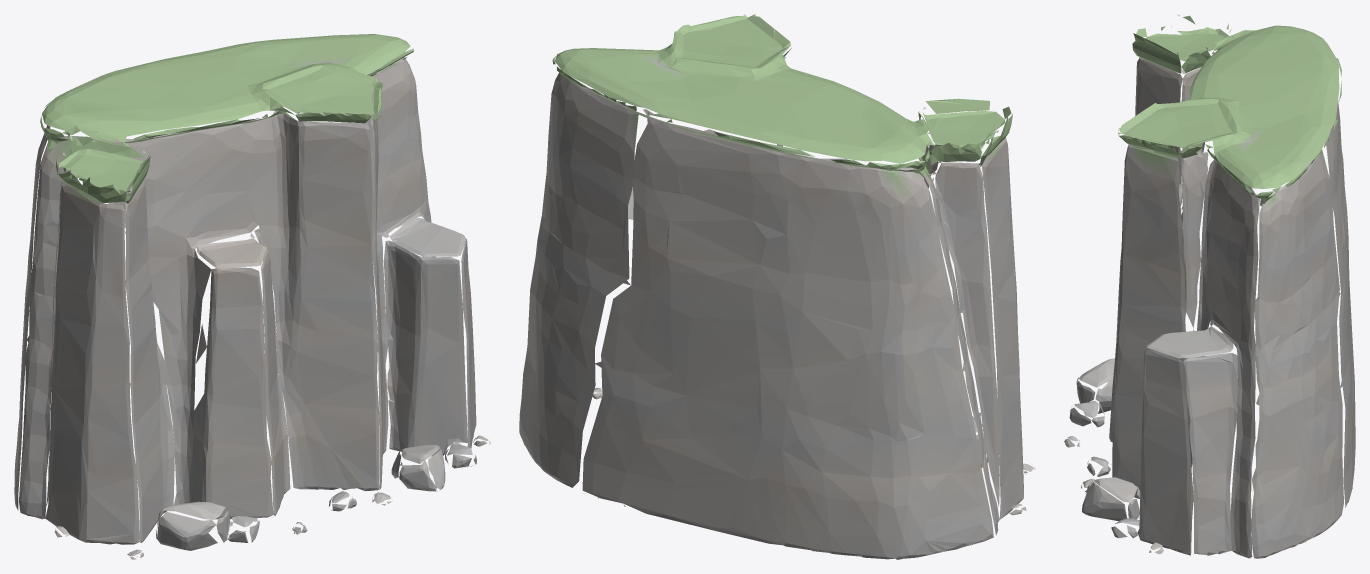
File: CliffFace.glb
The picture shows the model from 3 angles, left to right: view 1: azimuth 30°, elevation 25°; view 2: azimuth 150°, elevation 25°; view 3: azimuth 270°, elevation 25°; orthographic projection. The views are drawn at different scales.
Parts seen in each view (by area): view 1: geometry_0; view 2: geometry_0; view 3: geometry_0.
Boxes of the visible parts, <box> form: geometry_0: <box>14,34,490,559</box>; geometry_0: <box>519,14,1035,559</box>; geometry_0: <box>1064,15,1355,558</box>.
Bounding box in the file's own units: 6.01 × 5.13 × 3.59.
